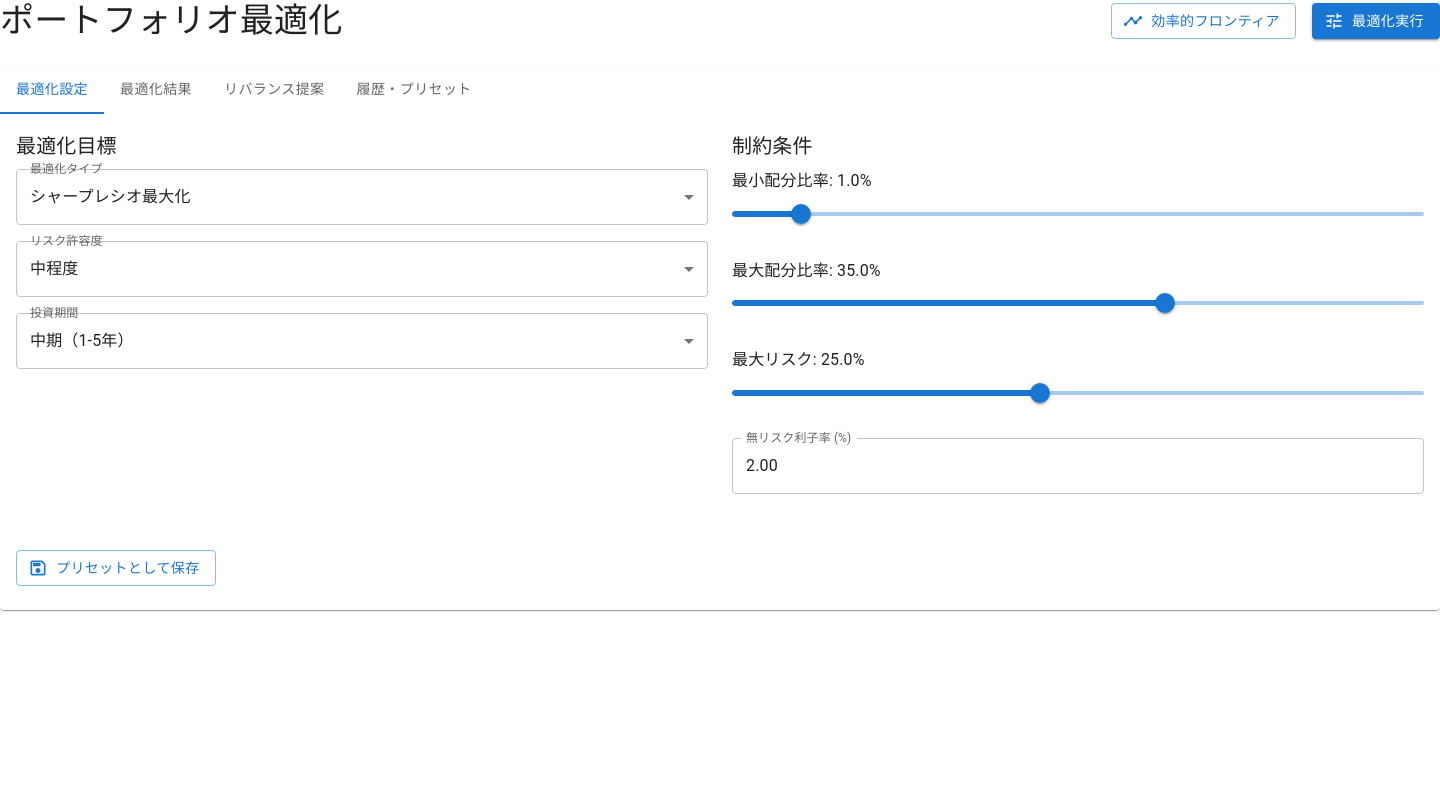
PortfolioOptimization › エラーハンドリング › API エラー時にエラーメッセージが表示される
Click the button "最適化実行" at (1376, 21), box [1312,3,1439,39]
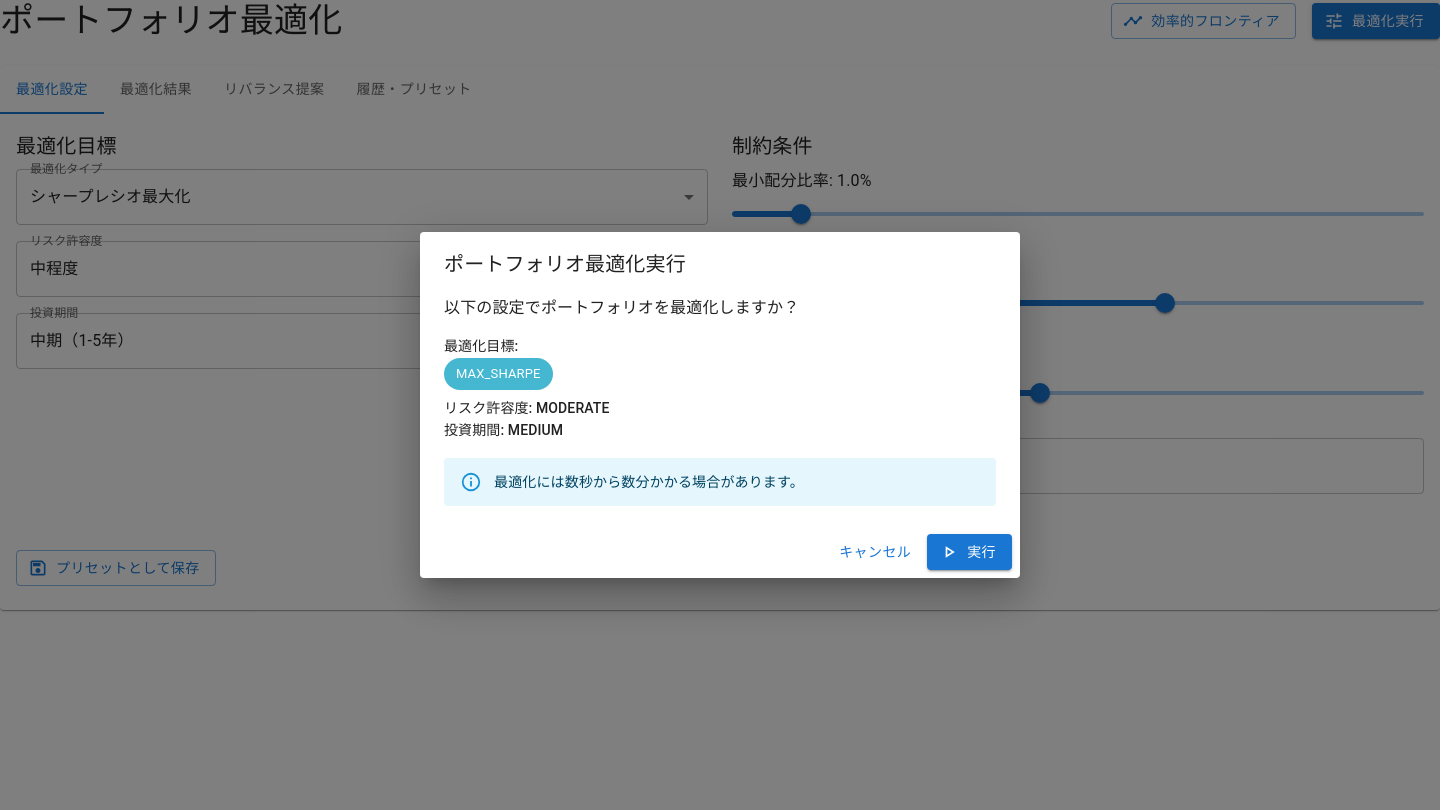
Click the button "実行" at (970, 552), box [927,534,1012,570]
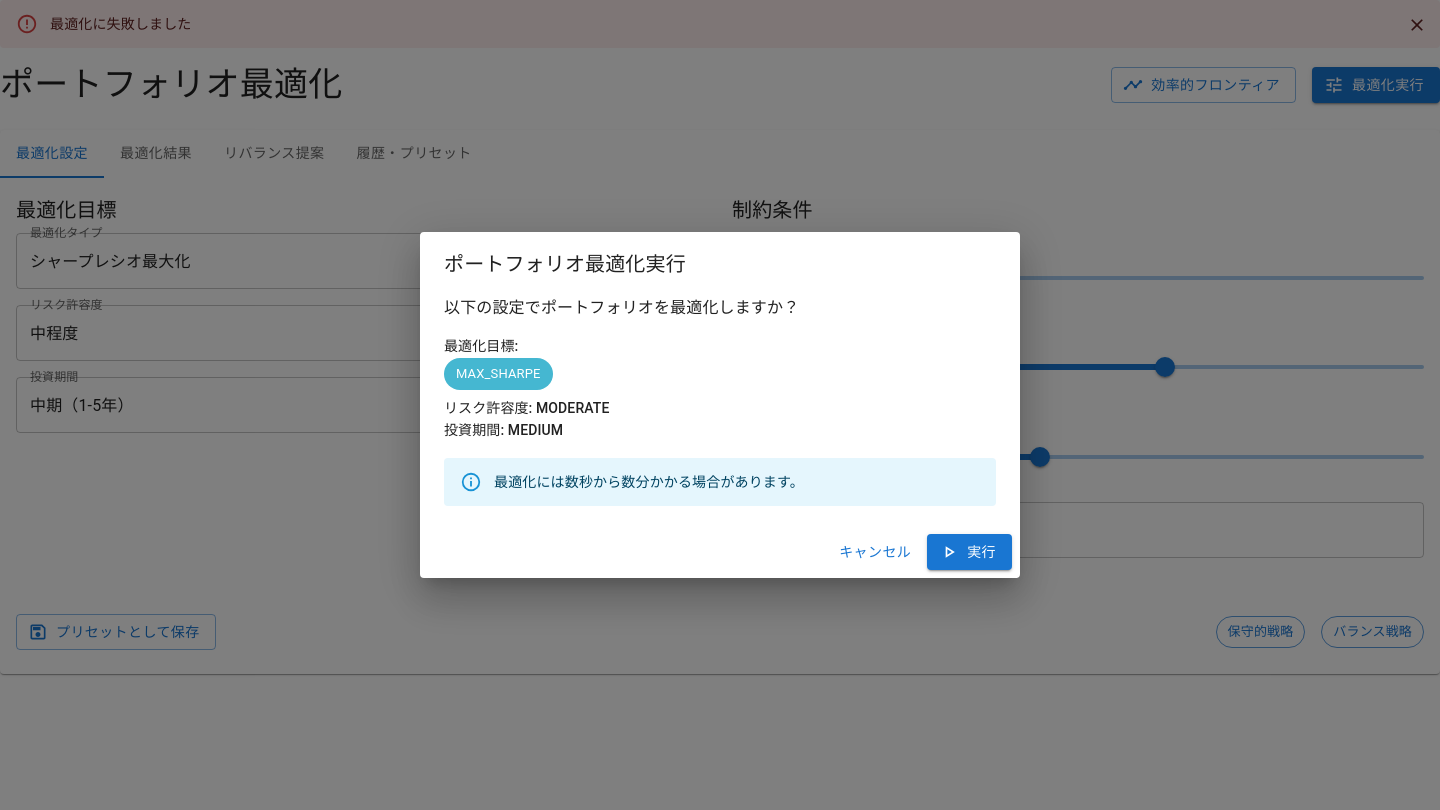
Expected: the text "最適化に失敗しました" is shown, [50,16,192,32]
